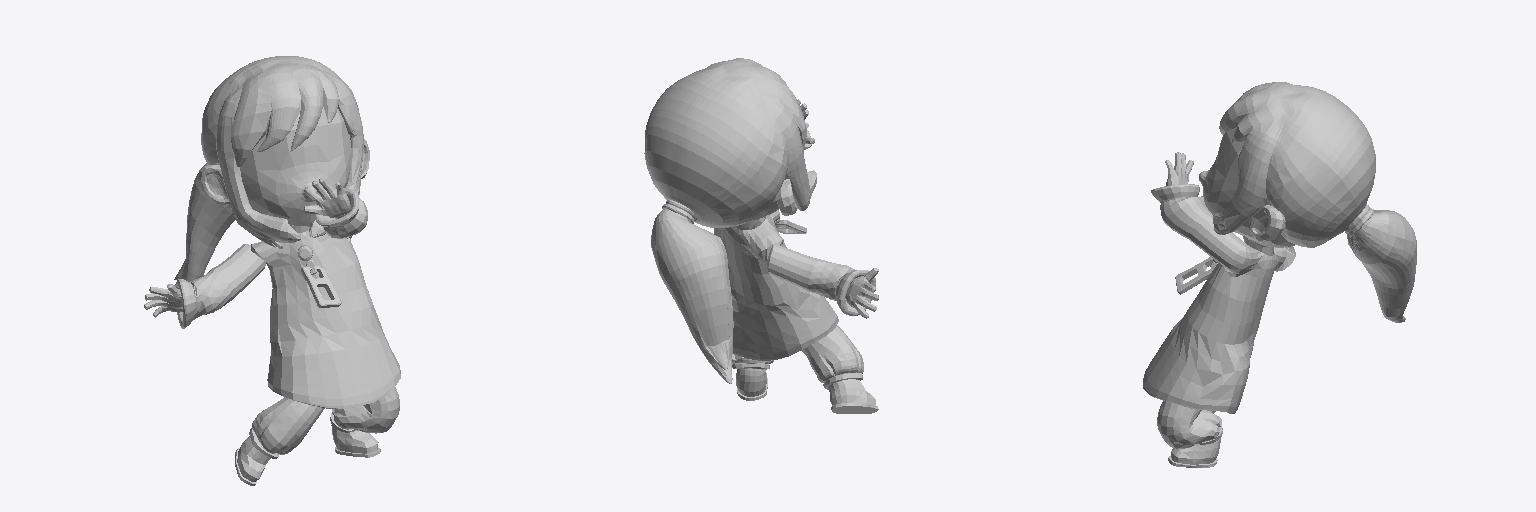
3 renders of one model, left to right at view 1: azimuth 30°, elevation 25°; view 2: azimuth 150°, elevation 25°; view 3: azimuth 270°, elevation 25°, orthographic.
Visible parts, largest first — view 1: hatkidbody.png, hatkidhair.png, hatkidbody, hatkidhair; view 2: hatkidhair.png, hatkidbody.png, hatkidhair, hatkidbody; view 3: hatkidbody.png, hatkidhair.png, hatkidhair, hatkidbody.
Boxes of the visible parts, x1,y1,x2,y2 form: hatkidbody.png: [144, 107, 400, 408]; hatkidhair.png: [201, 56, 363, 248]; hatkidbody: [235, 387, 399, 485]; hatkidhair: [174, 163, 235, 286]; hatkidhair.png: [644, 58, 816, 227]; hatkidbody.png: [714, 99, 878, 360]; hatkidhair: [651, 199, 733, 383]; hatkidbody: [732, 325, 878, 413]; hatkidbody.png: [1143, 127, 1295, 413]; hatkidhair.png: [1201, 82, 1375, 247]; hatkidhair: [1345, 204, 1416, 322]; hatkidbody: [1157, 400, 1222, 467].
Bounding box in the file's own units: 44.15 × 69.16 × 47.36.